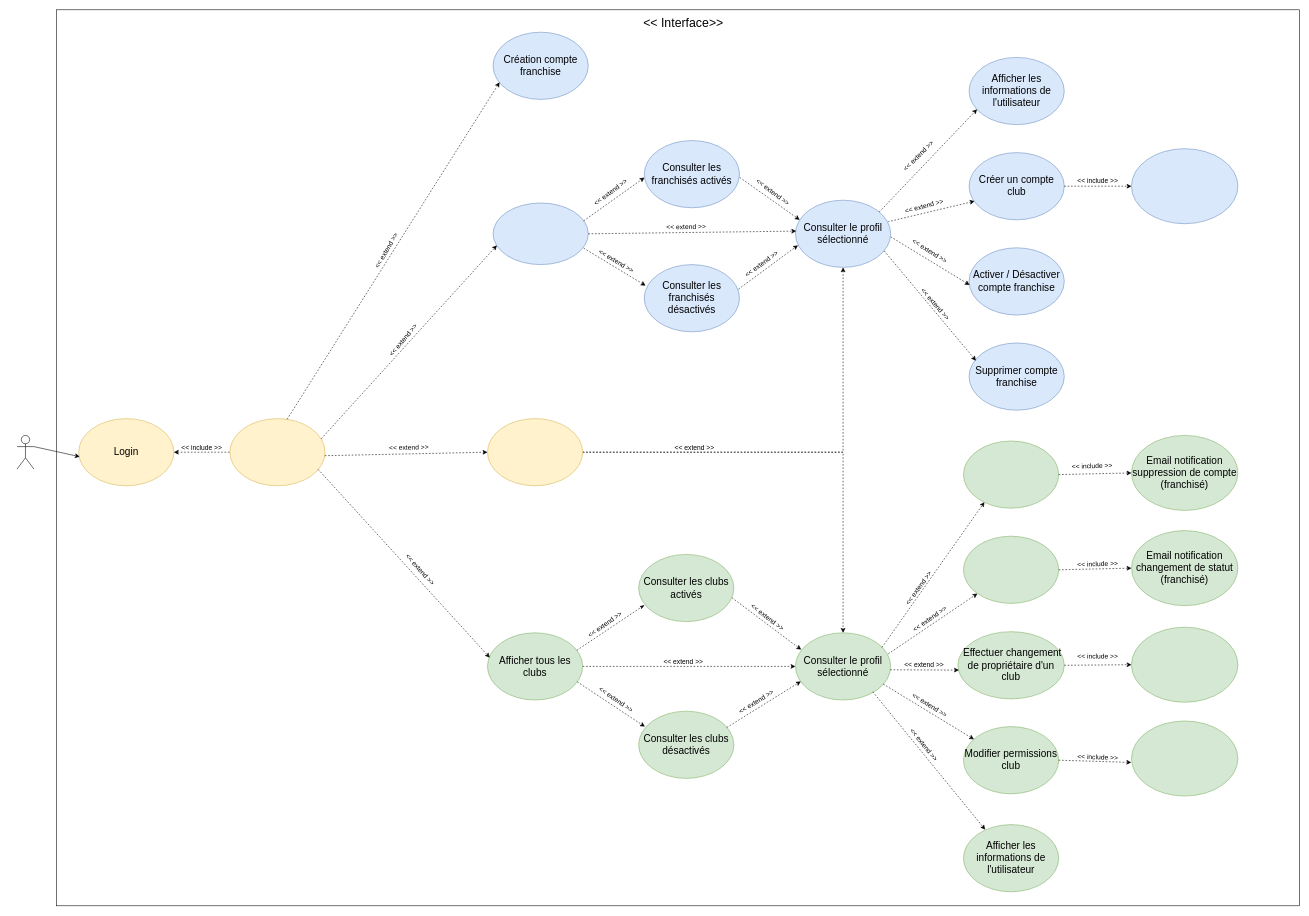
Some shapes in this 1309 by 916 pixel diagram are drawn without their labels. The shapes that lost their labels are listed below. From the top down, each one's centre as x and y in pixels, then its label:
At point 1184,186: "Email confirmation création d'un club au responsable de la franchise".
At point 540,233: "Afficher tous les franchisés".
At point 25,452: "Technician".
At point 277,452: "Naviguer sur l'interface".
At point 535,452: "Effectuer une recherche d'utilisateur".
At point 1011,474: "Supprimer compte club".
At point 1011,569: "Activer / Désactiver compte club".
At point 1184,664: "Email notification changement propriétaire aux (club/franchisé)".
At point 1184,758: "Envoie email notification modification permissions (franchisé/club)".
